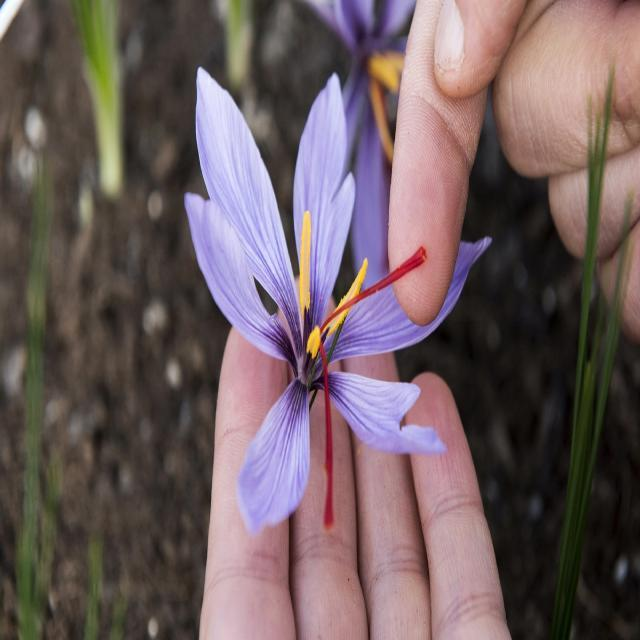Flower: (183, 67, 492, 535)
stigma: (319, 245, 430, 334), (319, 336, 334, 531)
